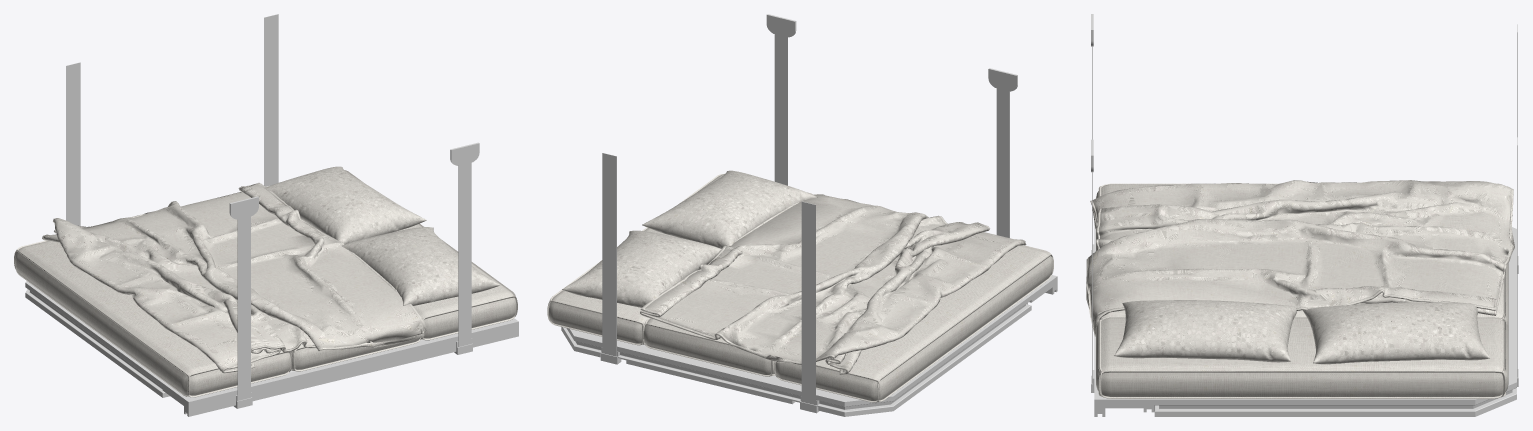
The model's file is elevator-bed.glb.
3 renders of one model, left to right at view 1: azimuth 30°, elevation 25°; view 2: azimuth 150°, elevation 25°; view 3: azimuth 270°, elevation 25°, orthographic. The views are drawn at different scales.
Visible parts, largest first — view 1: Document.002; view 2: Document.002; view 3: Document.002.
Boxes of the visible parts, bbox=[...] form: Document.002: bbox=[14, 14, 518, 416]; Document.002: bbox=[547, 14, 1057, 416]; Document.002: bbox=[1086, 14, 1518, 416].
Size of the model in its own units: 1.41 by 0.8463 by 1.36.
Materials: 4 (2 with a texture image).
